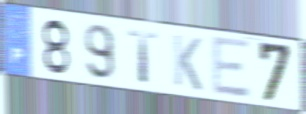7: (256, 39, 294, 104)
8: (41, 17, 71, 75)
9: (82, 23, 117, 82)
E: (210, 34, 253, 100)
K: (171, 32, 204, 93)
T: (126, 28, 161, 86)
